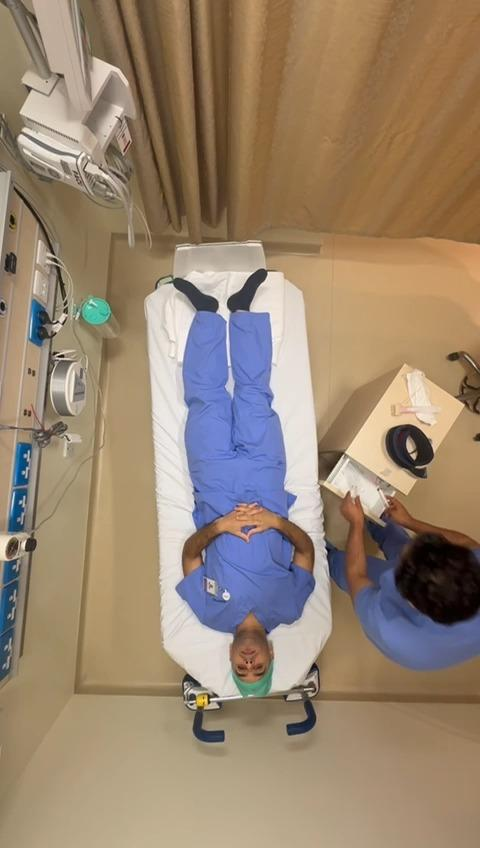bed: (146, 242, 331, 742)
patient: (174, 270, 315, 695)
tourniquet: (386, 424, 434, 478)
